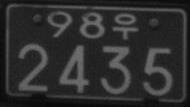2: (18, 42, 48, 92)
3: (100, 44, 132, 95)
4: (58, 44, 89, 94)
5: (141, 47, 173, 97)
8: (78, 10, 105, 39)
9: (47, 10, 73, 37)
우: (112, 12, 139, 40)
